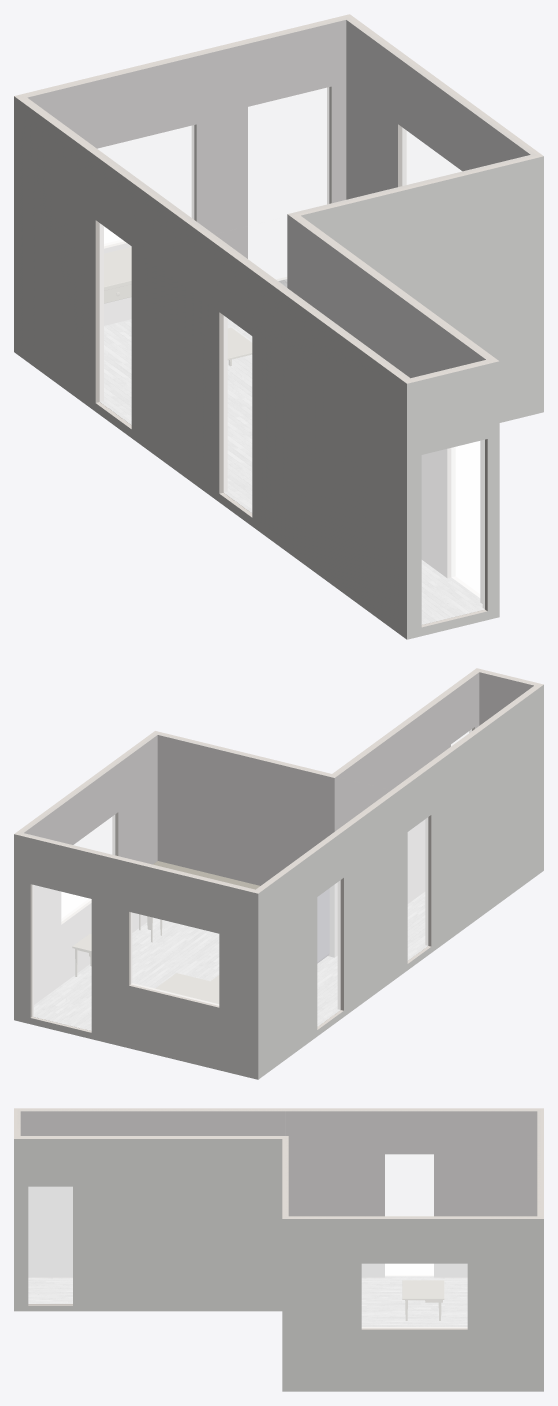
3 views of the same model, one above another, from view 1: azimuth 30°, elevation 25°; view 2: azimuth 150°, elevation 25°; view 3: azimuth 270°, elevation 25° (orthographic). The views are drawn at different scales.
Parts seen in each view (by area): view 1: wall_3, ceiling_Kitchen, wall_0, wall_16, wall_8, wall_10, ceiling_Other, wall_4, door_1, door_6, door_4, door_9 (+17 smaller); view 2: wall_3, wall_5, ceiling_Kitchen, wall_6, wall_10, wall_8, floor_Kitchen, door_1, door_6, ceiling_Other, window_0, window_2 (+16 smaller); view 3: wall_1, wall_2, wall_12, ceiling_Kitchen, window_1, window_3, ceiling_Other, door_0, door_5, floor_Kitchen, door_2, door_7 (+7 smaller).
Part boxes in pixels (x1,y1,x2,y2): wall_3: [14, 96, 406, 639]; ceiling_Kitchen: [29, 19, 535, 234]; wall_0: [301, 156, 543, 422]; wall_16: [27, 20, 346, 325]; wall_8: [287, 214, 485, 603]; wall_10: [346, 20, 530, 199]; ceiling_Other: [215, 216, 485, 377]; wall_4: [407, 361, 499, 639]; door_1: [248, 87, 328, 280]; door_6: [248, 88, 328, 280]; door_4: [422, 440, 484, 624]; door_9: [422, 440, 484, 624]; wall_3: [258, 685, 543, 1079]; wall_5: [14, 834, 258, 1079]; ceiling_Kitchen: [21, 733, 390, 888]; wall_6: [157, 735, 334, 957]; wall_10: [24, 735, 157, 1004]; wall_8: [334, 672, 479, 956]; floor_Kitchen: [33, 918, 340, 1030]; door_1: [32, 885, 91, 1030]; door_6: [32, 885, 91, 1030]; ceiling_Other: [337, 673, 533, 789]; window_0: [131, 912, 218, 1005]; window_2: [131, 912, 218, 1005]; wall_1: [14, 1139, 282, 1311]; wall_2: [282, 1219, 543, 1391]; wall_12: [20, 1111, 537, 1277]; ceiling_Kitchen: [286, 1110, 539, 1215]; window_1: [362, 1264, 467, 1327]; window_3: [362, 1264, 467, 1327]; ceiling_Other: [18, 1110, 284, 1135]; door_0: [28, 1187, 72, 1303]; door_5: [28, 1187, 72, 1303]; floor_Kitchen: [362, 1276, 467, 1326]; door_2: [385, 1154, 433, 1215]; door_7: [385, 1154, 433, 1215].
Size of the model in its own units: 4.01 by 2.92 by 8.12.
24 materials, 2 textured.
